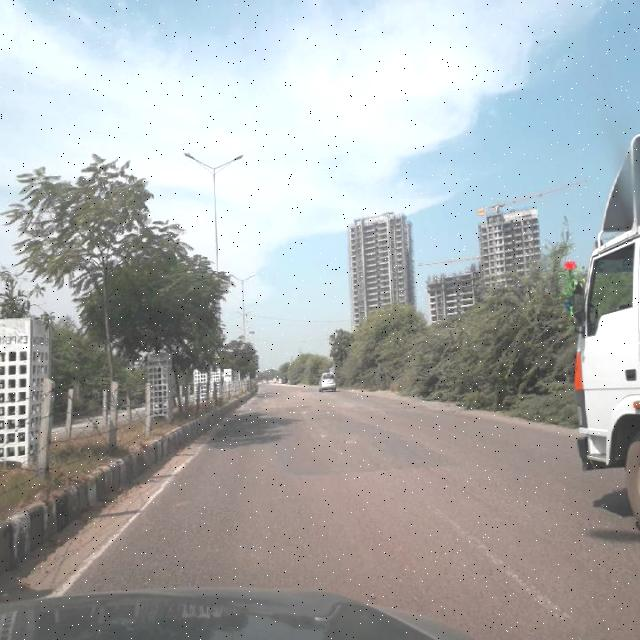D20: (107, 458, 628, 580)
D40: (338, 433, 370, 447)
D44: (418, 488, 568, 617)
